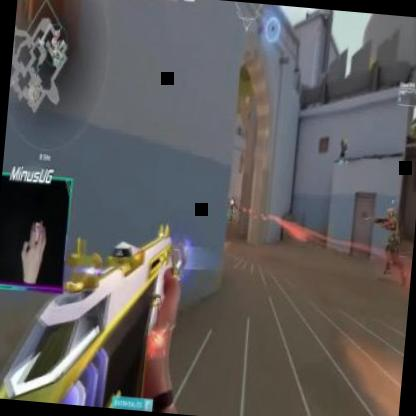enemy: (228, 200, 234, 220)
enemy_head: (230, 198, 233, 205)
